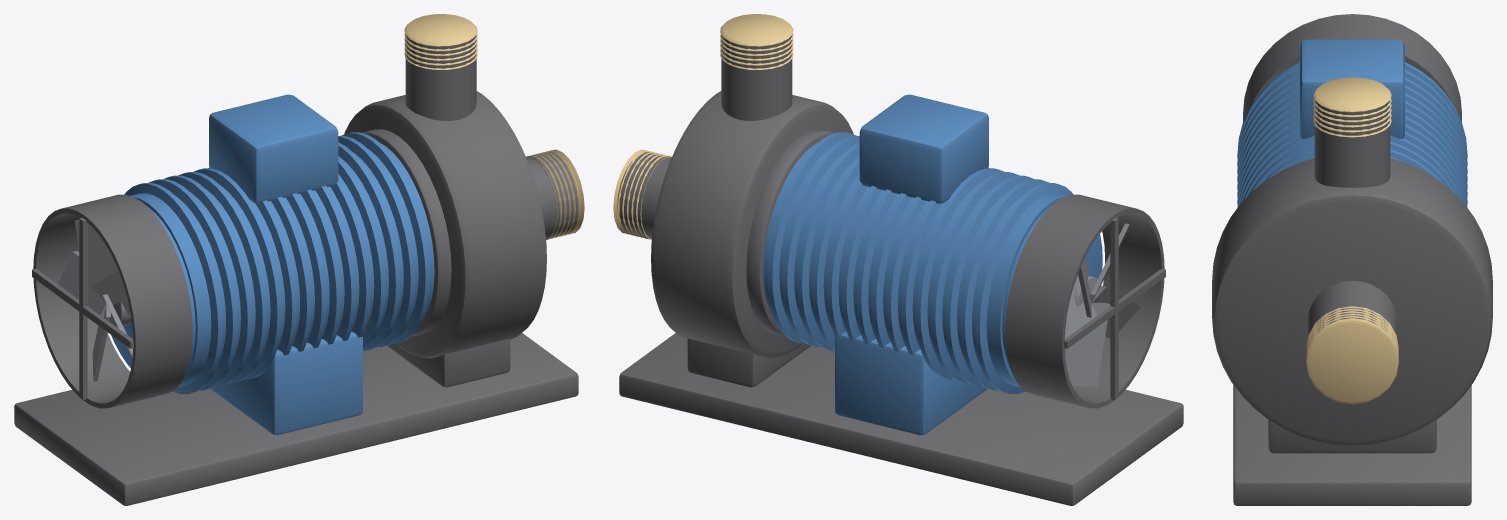
File: HID-BOM-001.glb
3 renders of one model, left to right at view 1: azimuth 30°, elevation 25°; view 2: azimuth 150°, elevation 25°; view 3: azimuth 270°, elevation 25°, orthographic. The views are drawn at different scales.
Visible parts, largest first — view 1: HID-BOM-001_motor, HID-BOM-001_base, HID-BOM-001_voluta, HID-BOM-001_grade, HID-BOM-001_ligacao, HID-BOM-001_pe_m, HID-BOM-001_recalque, HID-BOM-001_rotor, HID-BOM-001_flange, HID-BOM-001_pe_b, HID-BOM-001_rosca_r, HID-BOM-001_succao (+4 smaller); view 2: HID-BOM-001_motor, HID-BOM-001_base, HID-BOM-001_voluta, HID-BOM-001_grade, HID-BOM-001_ligacao, HID-BOM-001_pe_m, HID-BOM-001_recalque, HID-BOM-001_rotor, HID-BOM-001_flange, HID-BOM-001_pe_b, HID-BOM-001_rosca_r, HID-BOM-001_succao (+4 smaller); view 3: HID-BOM-001_voluta, HID-BOM-001_base, HID-BOM-001_motor, HID-BOM-001_rosca_s, HID-BOM-001_grade, HID-BOM-001_ligacao, HID-BOM-001_recalque, HID-BOM-001_rosca_r, HID-BOM-001_pe_b, HID-BOM-001_succao.
Part boxes in pixels (box(x1,y1,x2,y2)): HID-BOM-001_motor: box(124, 132, 434, 394); HID-BOM-001_base: box(14, 333, 578, 505); HID-BOM-001_voluta: box(344, 91, 546, 358); HID-BOM-001_grade: box(33, 194, 192, 408); HID-BOM-001_ligacao: box(209, 94, 338, 203); HID-BOM-001_pe_m: box(210, 331, 362, 435); HID-BOM-001_recalque: box(405, 35, 476, 120); HID-BOM-001_rotor: box(58, 219, 132, 381); HID-BOM-001_flange: box(362, 129, 451, 336); HID-BOM-001_pe_b: box(387, 338, 510, 387); HID-BOM-001_rosca_r: box(404, 14, 477, 69); HID-BOM-001_succao: box(526, 152, 578, 238); HID-BOM-001_motor: box(763, 132, 1073, 394); HID-BOM-001_base: box(619, 333, 1183, 505); HID-BOM-001_voluta: box(651, 91, 853, 358); HID-BOM-001_grade: box(1005, 194, 1164, 408); HID-BOM-001_ligacao: box(859, 94, 988, 203); HID-BOM-001_pe_m: box(835, 331, 987, 435); HID-BOM-001_recalque: box(721, 35, 792, 120); HID-BOM-001_rotor: box(1065, 223, 1140, 387); HID-BOM-001_flange: box(746, 129, 835, 336); HID-BOM-001_pe_b: box(687, 338, 810, 387); HID-BOM-001_rosca_r: box(720, 14, 793, 69); HID-BOM-001_succao: box(619, 152, 671, 238); HID-BOM-001_voluta: box(1212, 158, 1492, 445); HID-BOM-001_base: box(1233, 385, 1471, 505); HID-BOM-001_motor: box(1237, 62, 1467, 207); HID-BOM-001_rosca_s: box(1306, 306, 1398, 404); HID-BOM-001_grade: box(1243, 14, 1461, 121); HID-BOM-001_ligacao: box(1300, 39, 1404, 138); HID-BOM-001_recalque: box(1314, 100, 1390, 187); HID-BOM-001_rosca_r: box(1313, 77, 1391, 137); HID-BOM-001_pe_b: box(1268, 420, 1436, 453); HID-BOM-001_succao: box(1307, 280, 1397, 338).
Bounding box in the file's own units: 0.435 × 0.292 × 0.2.
